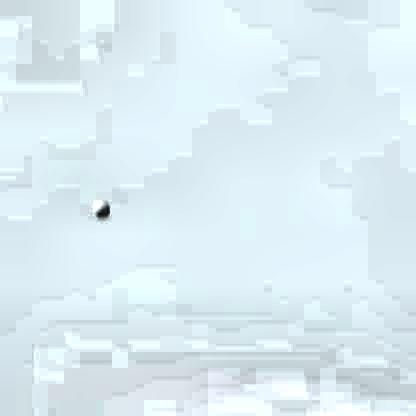golfball: (90, 193, 108, 215)
